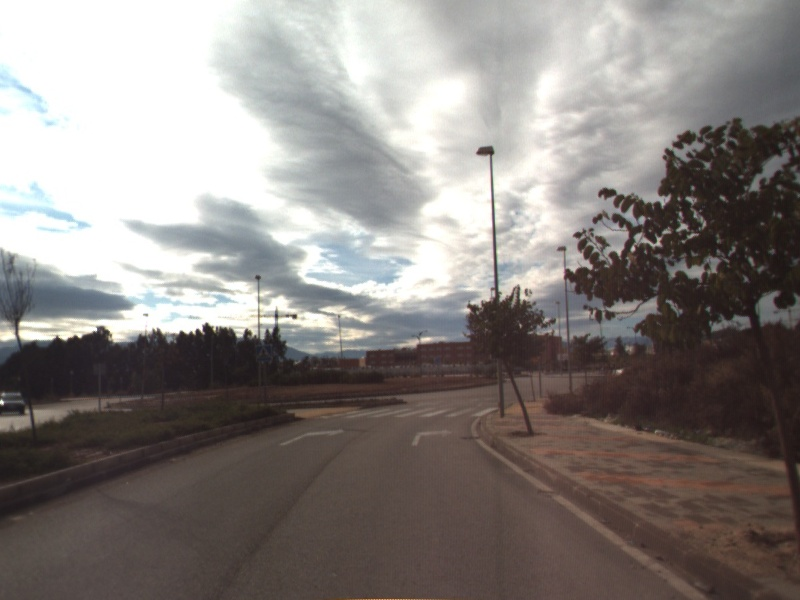RIGHT: (278, 426, 347, 448), (409, 425, 455, 448)
